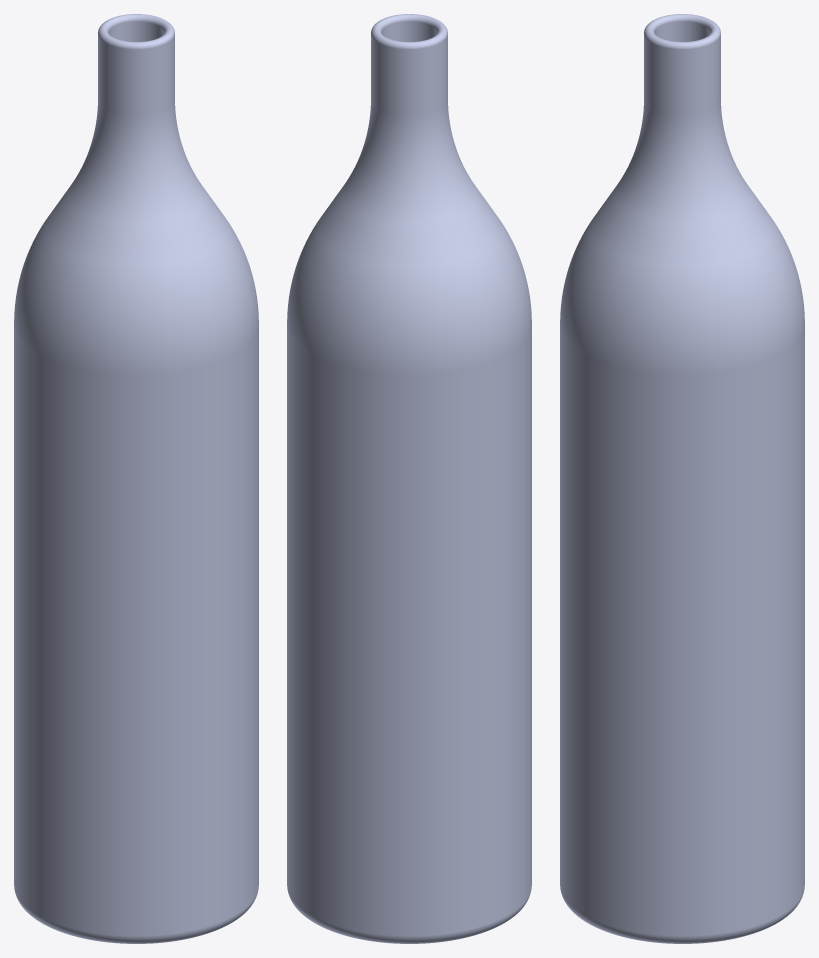
The model's file is Botella.fbx.
3 renders of one model, left to right at view 1: azimuth 30°, elevation 25°; view 2: azimuth 150°, elevation 25°; view 3: azimuth 270°, elevation 25°, orthographic.
Visible parts, largest first — view 1: Botella; view 2: Botella; view 3: Botella.
Boxes of the visible parts, x1,y1,x2,y2 form: Botella: (14, 14, 258, 943); Botella: (287, 14, 531, 943); Botella: (560, 14, 804, 943).
Size of the model in its own units: 70 by 274 by 70.
